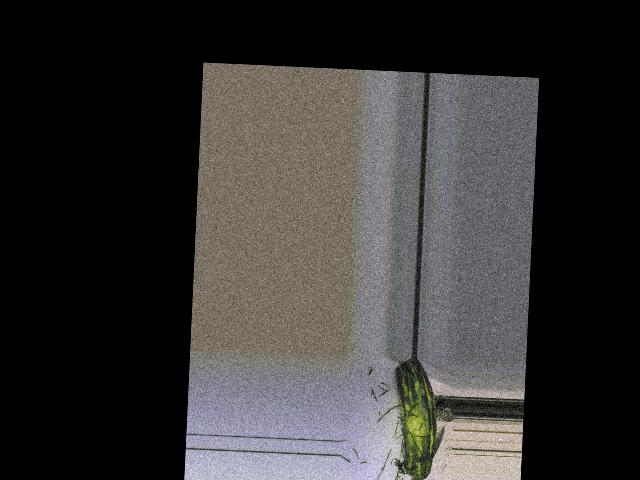cucumber: (390, 358, 439, 480)
